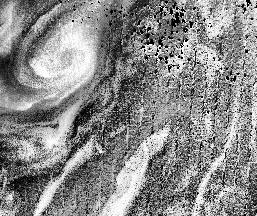AE: (17, 14, 97, 89)
